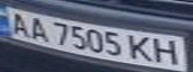0: (84, 26, 106, 55)
5: (103, 29, 127, 58), (66, 24, 87, 52)
7: (48, 19, 72, 47)
A: (3, 9, 33, 37), (24, 15, 51, 43)
H: (148, 36, 184, 66)
K: (127, 33, 157, 63)
